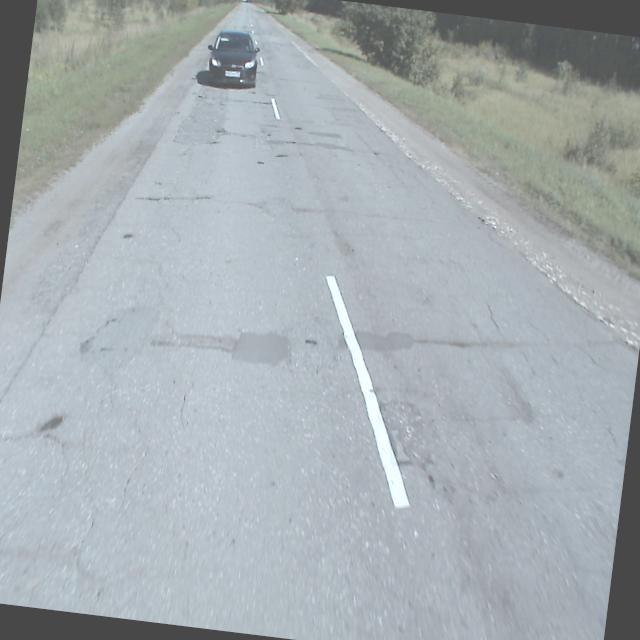road: (0, 2, 638, 640)
